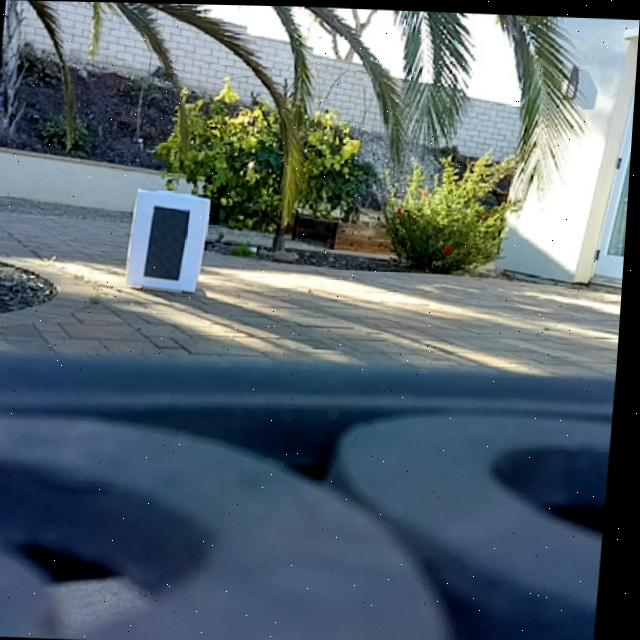led: (144, 201, 194, 282)
